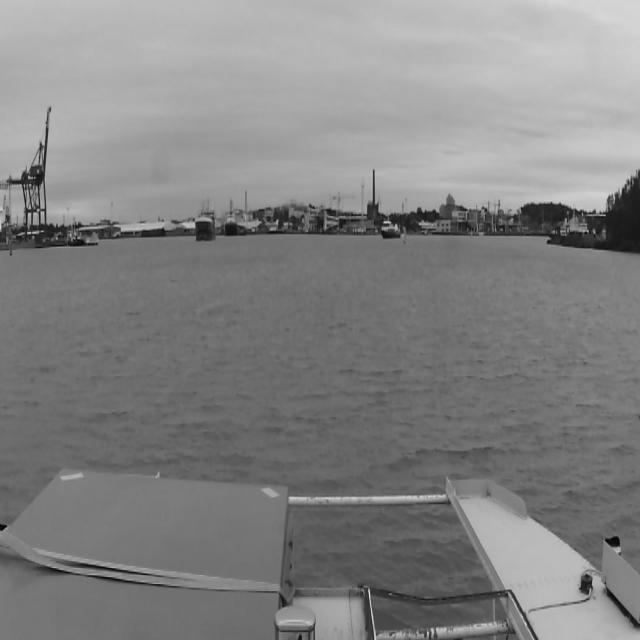buoy: (7, 237, 13, 259)
ship: (189, 194, 228, 244), (196, 212, 214, 242), (224, 200, 238, 237), (381, 220, 403, 239)
